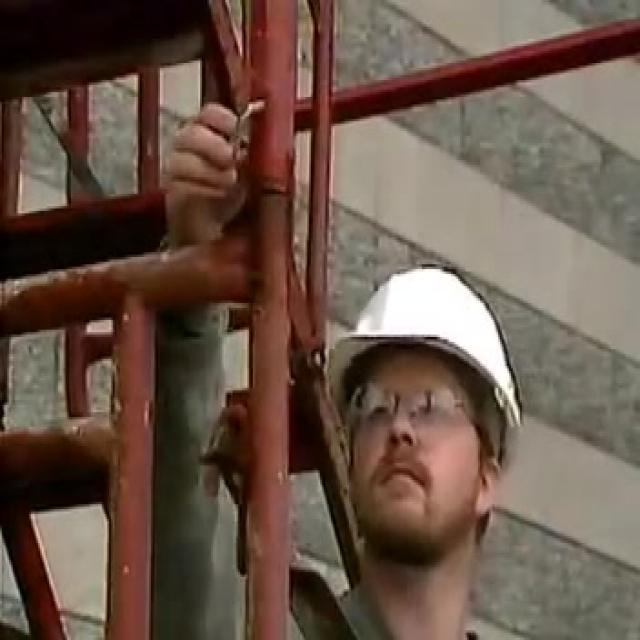Safety-Helmet: (313, 252, 547, 453)
